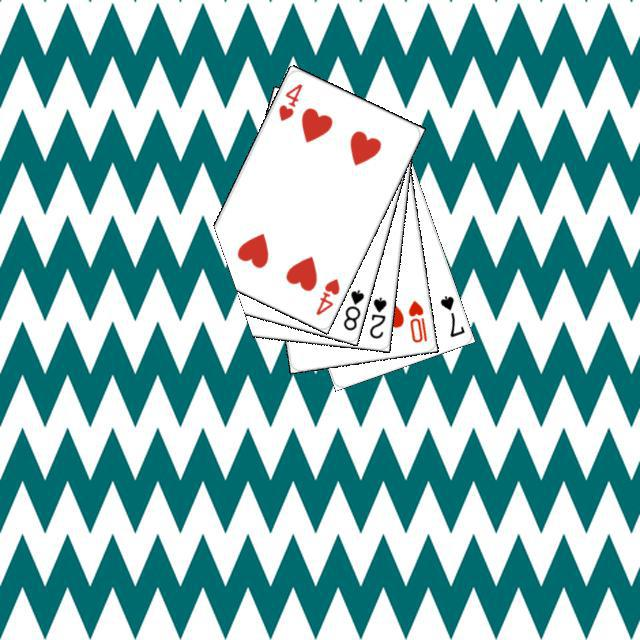10h: (403, 295, 429, 344)
2s: (364, 292, 388, 340)
4h: (310, 273, 341, 317), (274, 79, 304, 123)
7s: (435, 290, 466, 339)
8s: (338, 285, 366, 332)
